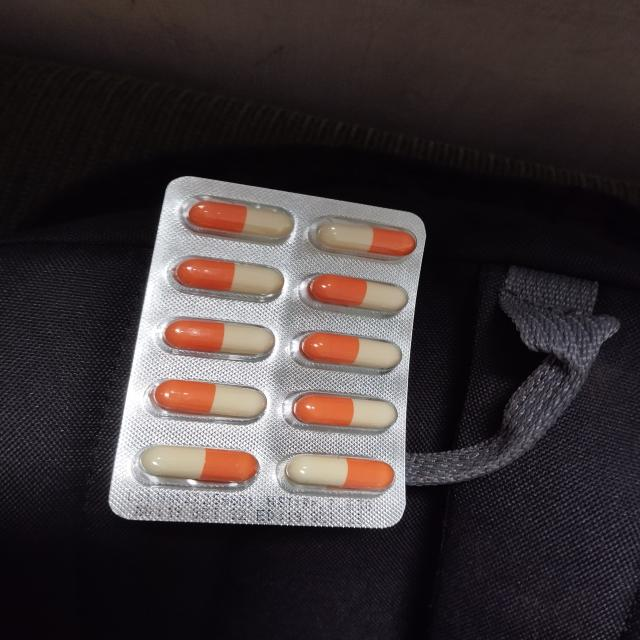B3: (107, 178, 427, 525)
